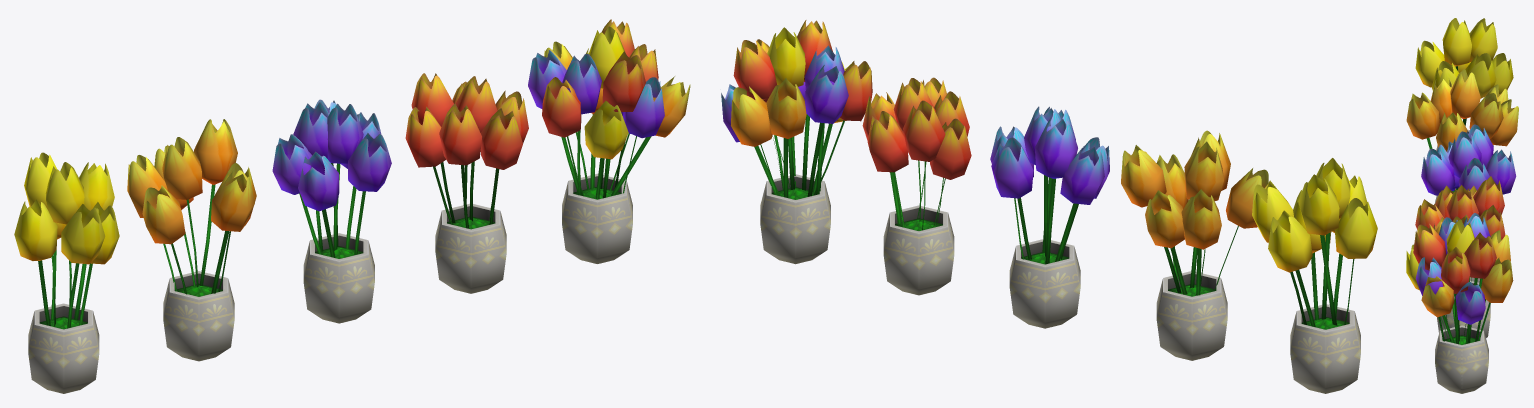
File: Tulip_Pots.FBX
3 renders of one model, left to right at view 1: azimuth 30°, elevation 25°; view 2: azimuth 150°, elevation 25°; view 3: azimuth 270°, elevation 25°, orthographic. The views are drawn at different scales.
Parts seen in each view (by area): view 1: Tulip_Pot_05, Tulip_Pot_02, Tulip_Pot_01, Tulip_Pot_04, Tulip_Pot_03; view 2: Tulip_Pot_05, Tulip_Pot_02, Tulip_Pot_01, Tulip_Pot_04, Tulip_Pot_03; view 3: Tulip_Pot_05, Tulip_Pot_02, Tulip_Pot_01, Tulip_Pot_03, Tulip_Pot_04.
Boxes of the visible parts, left/top/right/bottom form: Tulip_Pot_05: left=528, top=19, right=690, bottom=263; Tulip_Pot_02: left=127, top=119, right=256, bottom=361; Tulip_Pot_01: left=14, top=152, right=119, bottom=393; Tulip_Pot_04: left=405, top=73, right=528, bottom=293; Tulip_Pot_03: left=272, top=99, right=391, bottom=323; Tulip_Pot_05: left=721, top=20, right=872, bottom=264; Tulip_Pot_02: left=1121, top=130, right=1268, bottom=360; Tulip_Pot_01: left=1252, top=158, right=1377, bottom=393; Tulip_Pot_04: left=862, top=77, right=971, bottom=295; Tulip_Pot_03: left=990, top=106, right=1109, bottom=328; Tulip_Pot_05: left=1406, top=213, right=1513, bottom=393; Tulip_Pot_02: left=1406, top=69, right=1518, bottom=203; Tulip_Pot_01: left=1415, top=18, right=1513, bottom=150; Tulip_Pot_03: left=1421, top=124, right=1516, bottom=282; Tulip_Pot_04: left=1415, top=176, right=1505, bottom=337.
Bounding box in the file's own units: 163 × 54.61 × 32.33.
